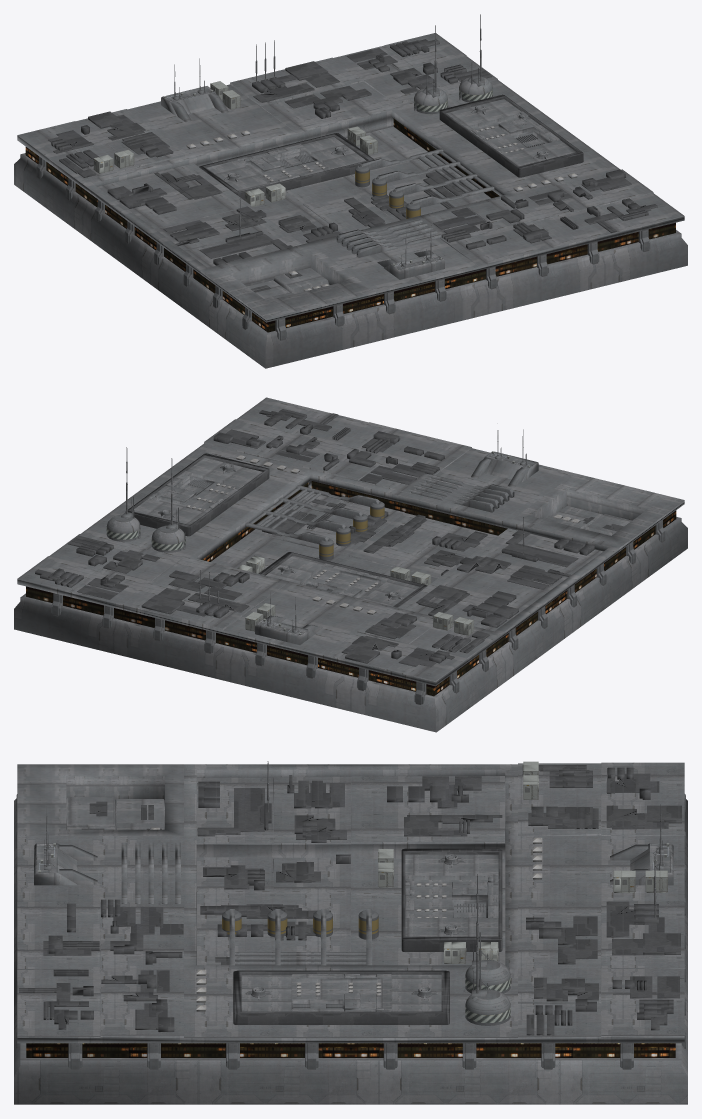
Rendered from CityBlock018.fbx.
3 renders of one model, top to bottom at view 1: azimuth 30°, elevation 25°; view 2: azimuth 150°, elevation 25°; view 3: azimuth 270°, elevation 25°, orthographic. The views are drawn at different scales.
Visible parts, largest first — view 1: SMCGBlock58_16845.Shape; view 2: SMCGBlock58_16845.Shape; view 3: SMCGBlock58_16845.Shape.
Boxes of the visible parts, left/top/right/bottom form: SMCGBlock58_16845.Shape: left=14, top=14, right=687, bottom=368; SMCGBlock58_16845.Shape: left=14, top=397, right=687, bottom=732; SMCGBlock58_16845.Shape: left=14, top=761, right=687, bottom=1104.
Size of the model in its own units: 1440 by 434 by 1485.
